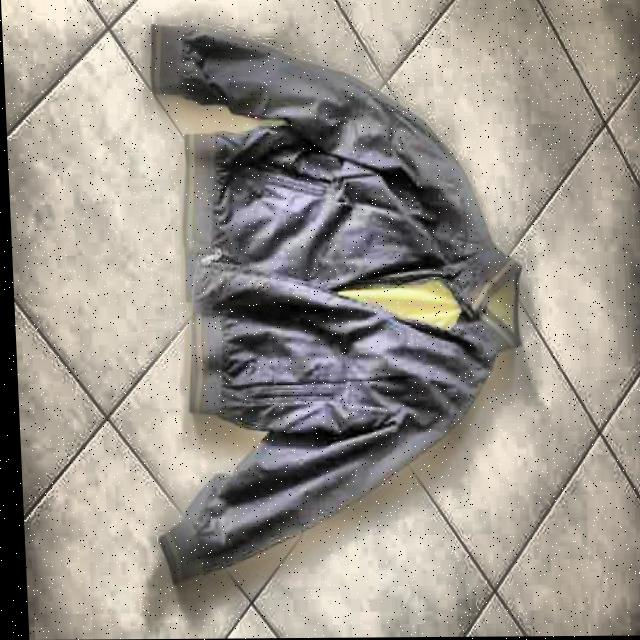clothes: (129, 12, 540, 593)
